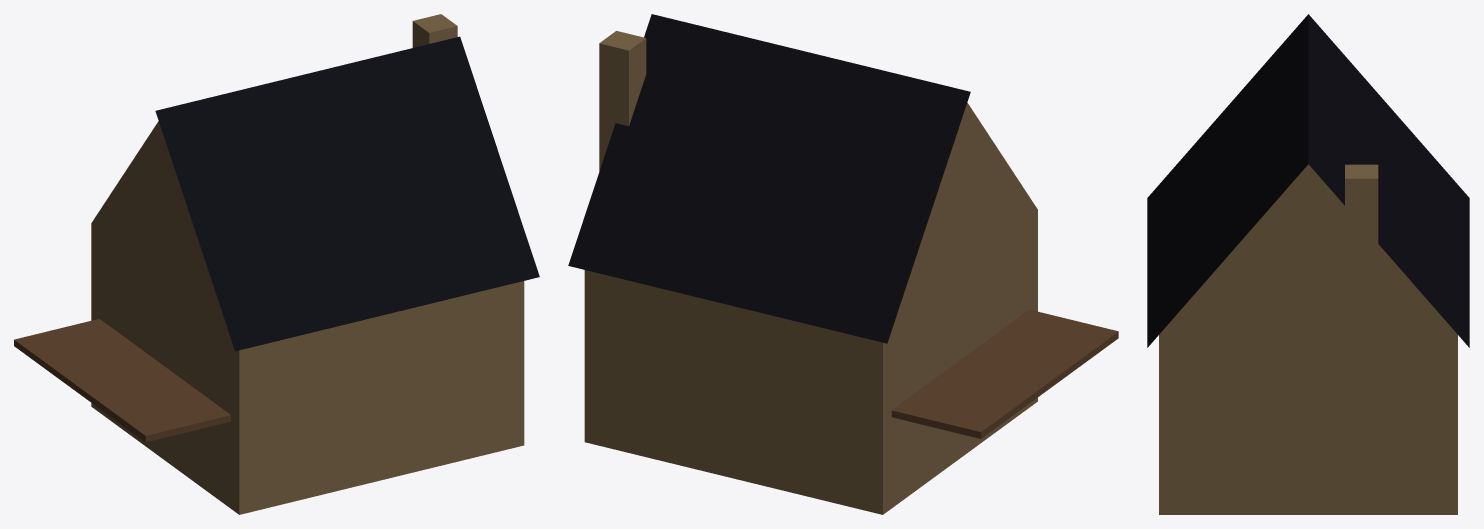
Rendered from rw-stone-cottage.towns-v1.lod2.glb.
3 renders of one model, left to right at view 1: azimuth 30°, elevation 25°; view 2: azimuth 150°, elevation 25°; view 3: azimuth 270°, elevation 25°, orthographic. The views are drawn at different scales.
Parts seen in each view (by area): view 1: rw-stone-cottage; view 2: rw-stone-cottage; view 3: rw-stone-cottage.
Part boxes in pixels (<box>): rw-stone-cottage: <box>14,14,539,514</box>; rw-stone-cottage: <box>568,14,1118,514</box>; rw-stone-cottage: <box>1147,14,1469,514</box>.
Size of the model in its own units: 13.9 by 11.82 by 9.7.
